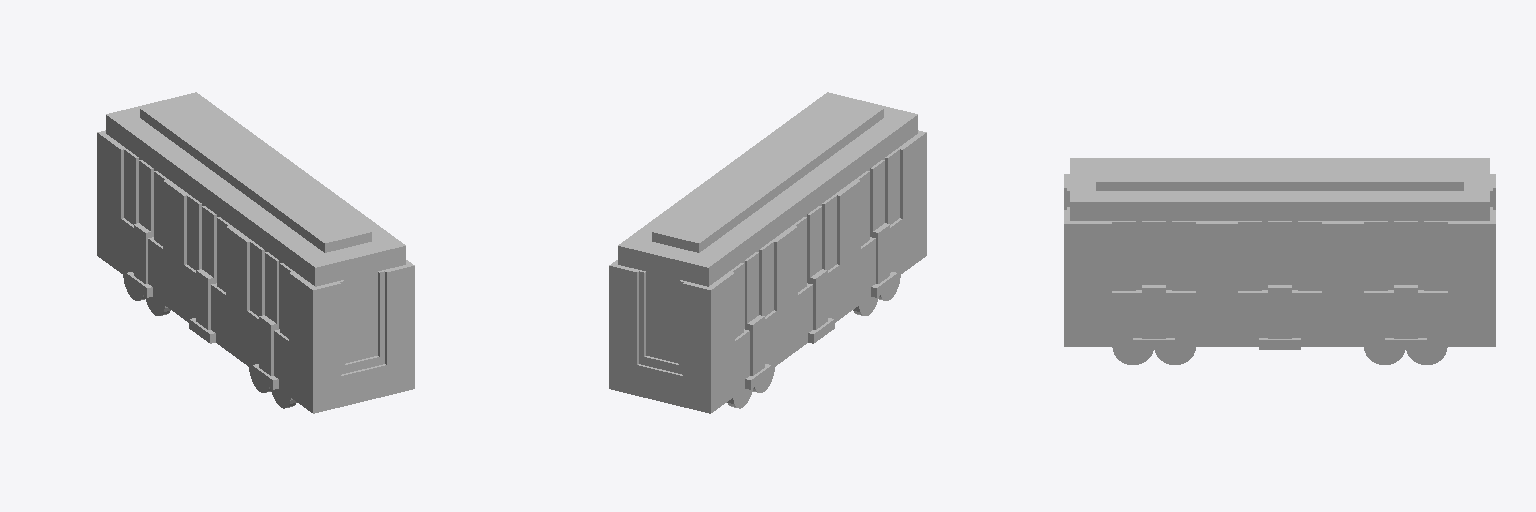
The model's file is ttrTrain.obj.
The picture shows the model from 3 angles: view 1: azimuth 30°, elevation 25°; view 2: azimuth 150°, elevation 25°; view 3: azimuth 270°, elevation 25°; orthographic projection.
Parts seen in each view (by area): view 1: Mesh103 Train1 Model, Mesh100 End2 Train1 Model, Mesh51 Wall3 Group25 Train1 Model, Mesh62 Wall4 Group25 Train1 Model, Mesh98 End2 Train1 Model, Mesh87 End1 Train1 Model, Mesh95 Group58 End2 Train1 Model, Mesh96 End2 Train1 Model, Mesh53 Group43 Group41 Windows6 Group25 Train1 Model, Mesh42 Group35 Group33 Windows5 Group25 Train1 Model, Mesh33 Group28 Group26 Windows4 Group25 Train1 Model, Mesh81 Group55 End1 Train1 Model (+11 smaller); view 2: Mesh103 Train1 Model, Mesh86 End1 Train1 Model, Mesh62 Wall4 Group25 Train1 Model, Mesh51 Wall3 Group25 Train1 Model, Mesh87 End1 Train1 Model, Mesh98 End2 Train1 Model, Mesh81 Group55 End1 Train1 Model, Mesh82 End1 Train1 Model, Mesh33 Group28 Group26 Windows4 Group25 Train1 Model, Mesh42 Group35 Group33 Windows5 Group25 Train1 Model, Mesh53 Group43 Group41 Windows6 Group25 Train1 Model, Mesh95 Group58 End2 Train1 Model (+11 smaller); view 3: Mesh103 Train1 Model, Mesh20 Wall1 Group1 Train1 Model, Mesh31 Wall2 Group1 Train1 Model, Mesh84 End1 Train1 Model, Mesh101 End2 Train1 Model, Mesh7 Group5 Windows1 Group1 Train1 Model, Mesh9 Group7 Windows1 Group1 Train1 Model, Mesh16 Group12 Windows2 Group1 Train1 Model, Mesh18 Group14 Windows2 Group1 Train1 Model, Mesh27 Group20 Windows3 Group1 Train1 Model, Mesh29 Group22 Windows3 Group1 Train1 Model, Mesh81 Group55 End1 Train1 Model (+12 smaller).
Part boxes in pixels (bbox=[...]): Mesh103 Train1 Model: bbox=[106, 92, 405, 331]; Mesh100 End2 Train1 Model: bbox=[316, 269, 411, 412]; Mesh51 Wall3 Group25 Train1 Model: bbox=[211, 231, 258, 368]; Mesh62 Wall4 Group25 Train1 Model: bbox=[148, 185, 195, 322]; Mesh98 End2 Train1 Model: bbox=[274, 277, 311, 412]; Mesh87 End1 Train1 Model: bbox=[99, 137, 133, 276]; Mesh95 Group58 End2 Train1 Model: bbox=[274, 260, 414, 413]; Mesh96 End2 Train1 Model: bbox=[344, 272, 377, 363]; Mesh53 Group43 Group41 Windows6 Group25 Train1 Model: bbox=[134, 160, 153, 283]; Mesh42 Group35 Group33 Windows5 Group25 Train1 Model: bbox=[196, 206, 216, 329]; Mesh33 Group28 Group26 Windows4 Group25 Train1 Model: bbox=[259, 252, 278, 375]; Mesh81 Group55 End1 Train1 Model: bbox=[97, 130, 133, 256]; Mesh103 Train1 Model: bbox=[618, 92, 917, 339]; Mesh86 End1 Train1 Model: bbox=[612, 269, 707, 412]; Mesh62 Wall4 Group25 Train1 Model: bbox=[765, 231, 812, 368]; Mesh51 Wall3 Group25 Train1 Model: bbox=[828, 185, 875, 322]; Mesh87 End1 Train1 Model: bbox=[712, 277, 749, 412]; Mesh98 End2 Train1 Model: bbox=[890, 137, 924, 276]; Mesh81 Group55 End1 Train1 Model: bbox=[609, 260, 749, 413]; Mesh82 End1 Train1 Model: bbox=[646, 272, 679, 363]; Mesh33 Group28 Group26 Windows4 Group25 Train1 Model: bbox=[870, 160, 889, 283]; Mesh42 Group35 Group33 Windows5 Group25 Train1 Model: bbox=[807, 206, 827, 329]; Mesh53 Group43 Group41 Windows6 Group25 Train1 Model: bbox=[745, 252, 764, 375]; Mesh95 Group58 End2 Train1 Model: bbox=[890, 130, 926, 256]; Mesh103 Train1 Model: bbox=[1070, 158, 1489, 290]; Mesh20 Wall1 Group1 Train1 Model: bbox=[1292, 227, 1393, 346]; Mesh31 Wall2 Group1 Train1 Model: bbox=[1166, 227, 1267, 346]; Mesh84 End1 Train1 Model: bbox=[1418, 227, 1492, 346]; Mesh101 End2 Train1 Model: bbox=[1067, 227, 1141, 346]; Mesh7 Group5 Windows1 Group1 Train1 Model: bbox=[1427, 225, 1447, 290]; Mesh9 Group7 Windows1 Group1 Train1 Model: bbox=[1364, 225, 1384, 290]; Mesh16 Group12 Windows2 Group1 Train1 Model: bbox=[1301, 225, 1321, 290]; Mesh18 Group14 Windows2 Group1 Train1 Model: bbox=[1238, 225, 1258, 290]; Mesh27 Group20 Windows3 Group1 Train1 Model: bbox=[1175, 225, 1195, 290]; Mesh29 Group22 Windows3 Group1 Train1 Model: bbox=[1112, 225, 1132, 290]; Mesh81 Group55 End1 Train1 Model: bbox=[1418, 174, 1495, 346].
Size of the model in its own units: 0.6696 by 0.972 by 2.22.